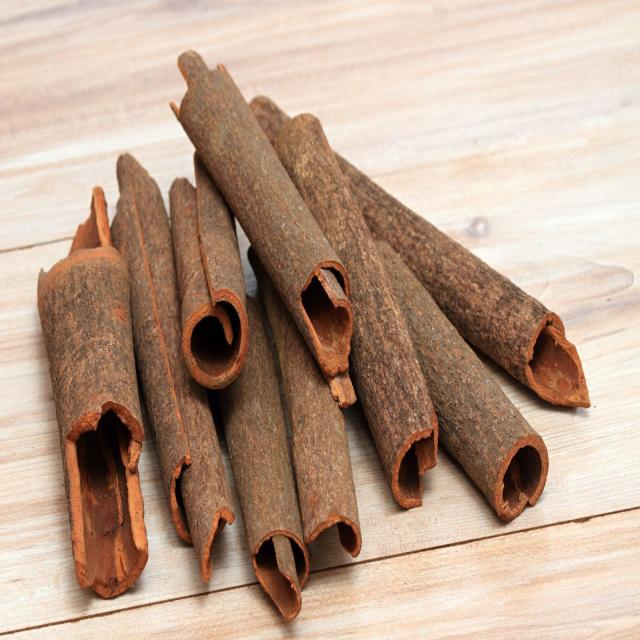Cinnamon: (171, 51, 355, 407), (335, 154, 590, 406), (276, 113, 438, 508), (111, 154, 234, 583), (377, 242, 549, 520), (38, 187, 148, 597), (249, 250, 361, 558), (170, 154, 248, 389), (252, 421, 256, 426)
